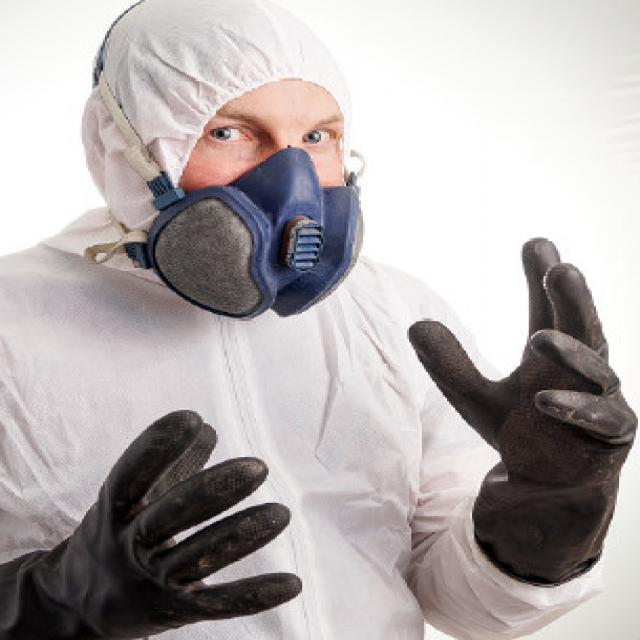mask: (155, 60, 365, 306)
